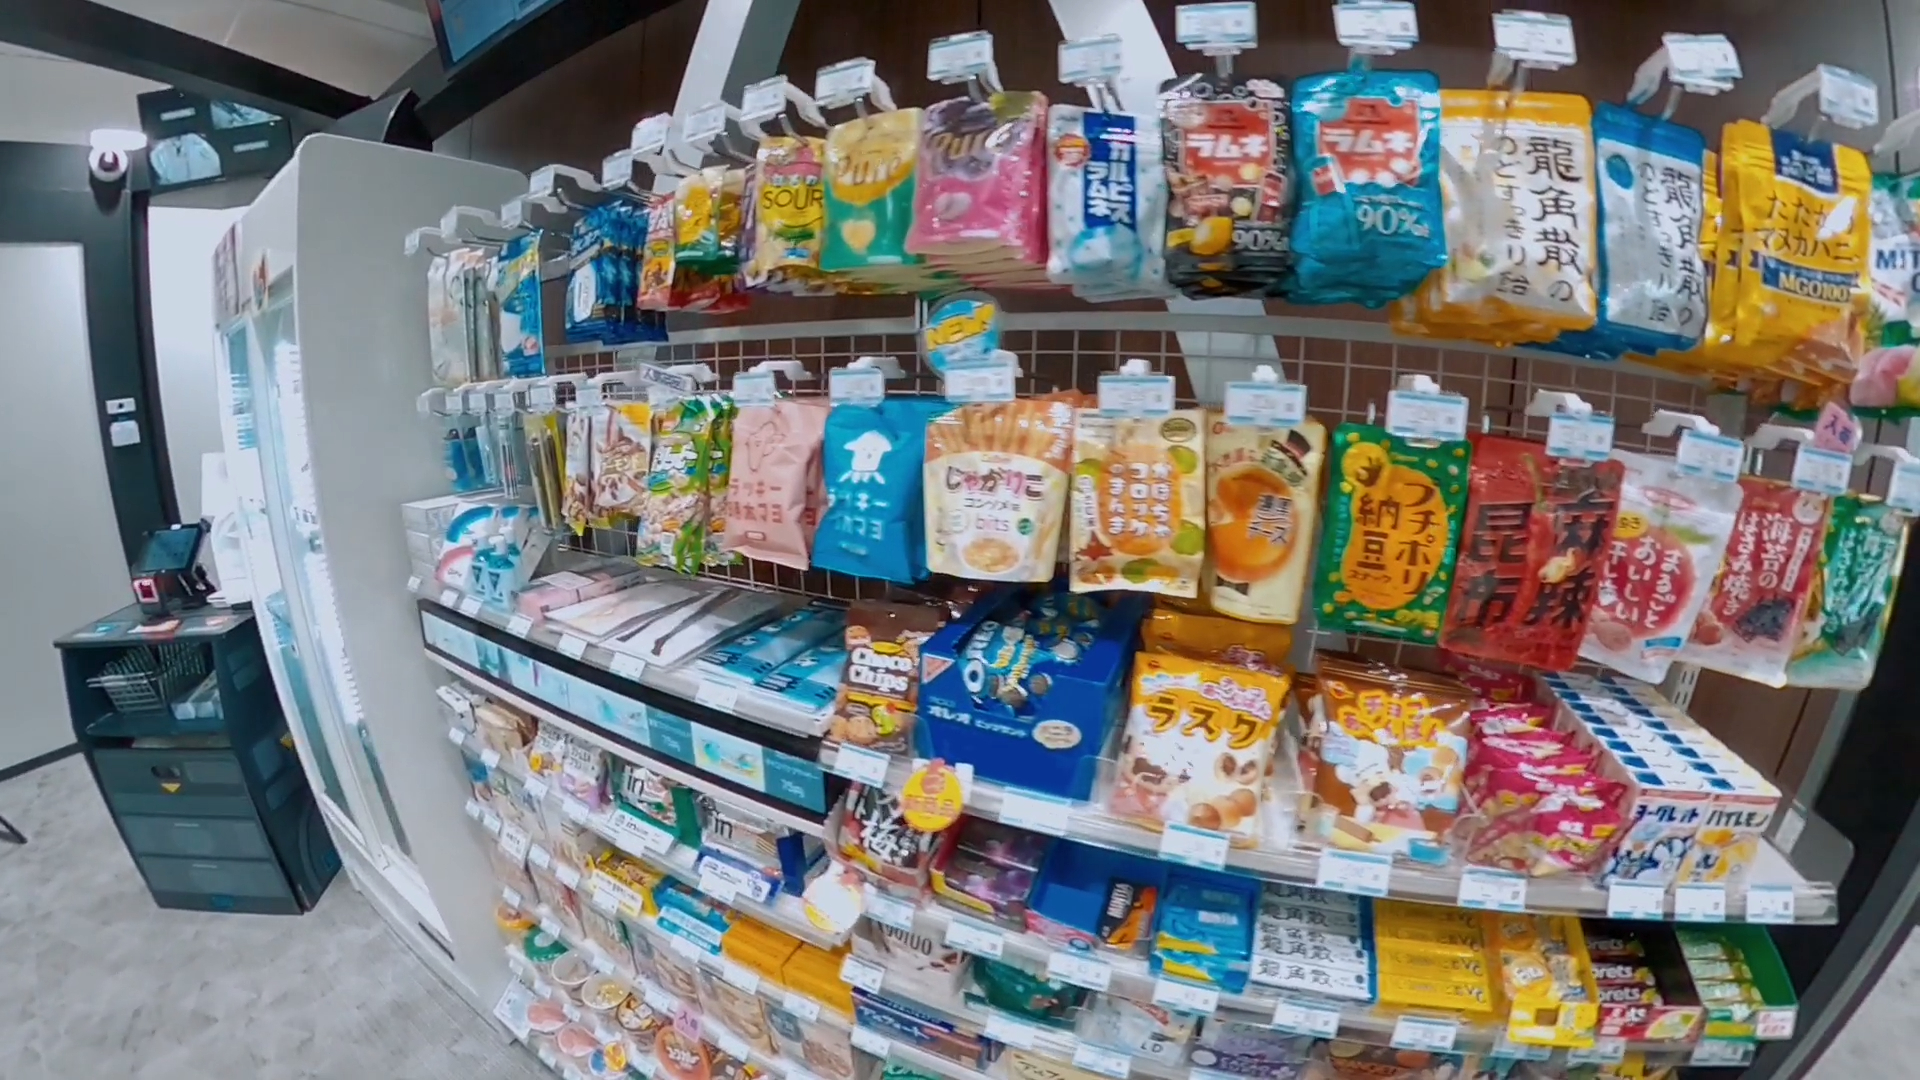NorinoHasamiyaki: (1786, 497, 1908, 691)
